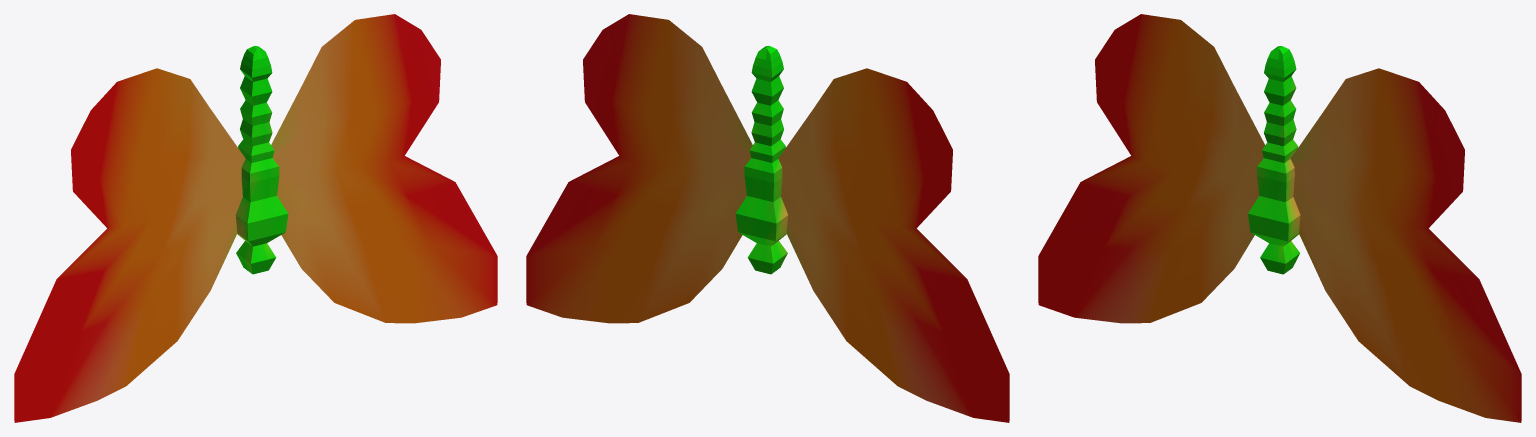
The model's file is Butterfly 2.2.fbx.
3 renders of one model, left to right at view 1: azimuth 30°, elevation 25°; view 2: azimuth 150°, elevation 25°; view 3: azimuth 330°, elevation 25°, orthographic.
Parts seen in each view (by area): view 1: Plane.001; view 2: Plane.001; view 3: Plane.001.
Boxes of the visible parts, x1,y1,x2,y2 form: Plane.001: [14, 14, 497, 422]; Plane.001: [526, 14, 1009, 422]; Plane.001: [1038, 14, 1521, 422].
Bounding box in the file's own units: 994 × 636 × 84.1.
